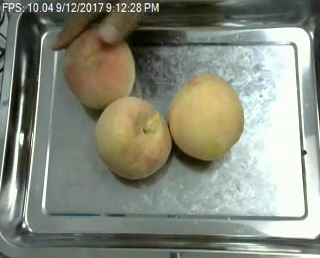Peach: (93, 95, 170, 180), (169, 76, 245, 161), (61, 29, 138, 110)
